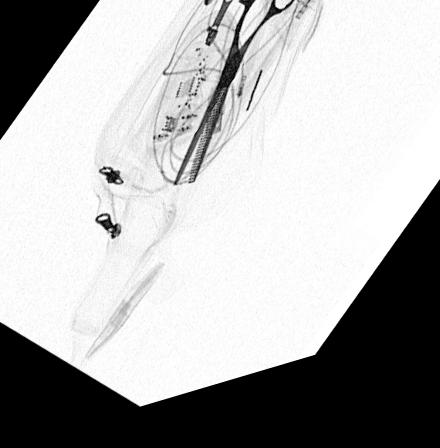Scissors: (170, 0, 305, 199)
